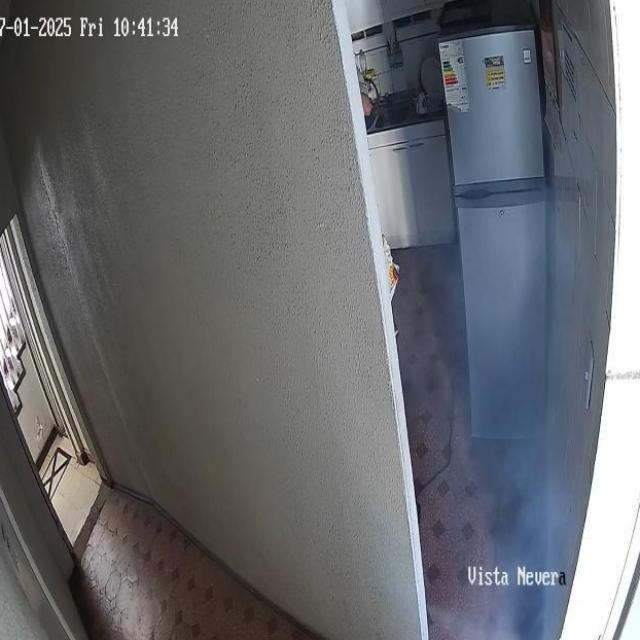fire: (421, 215, 568, 640)
